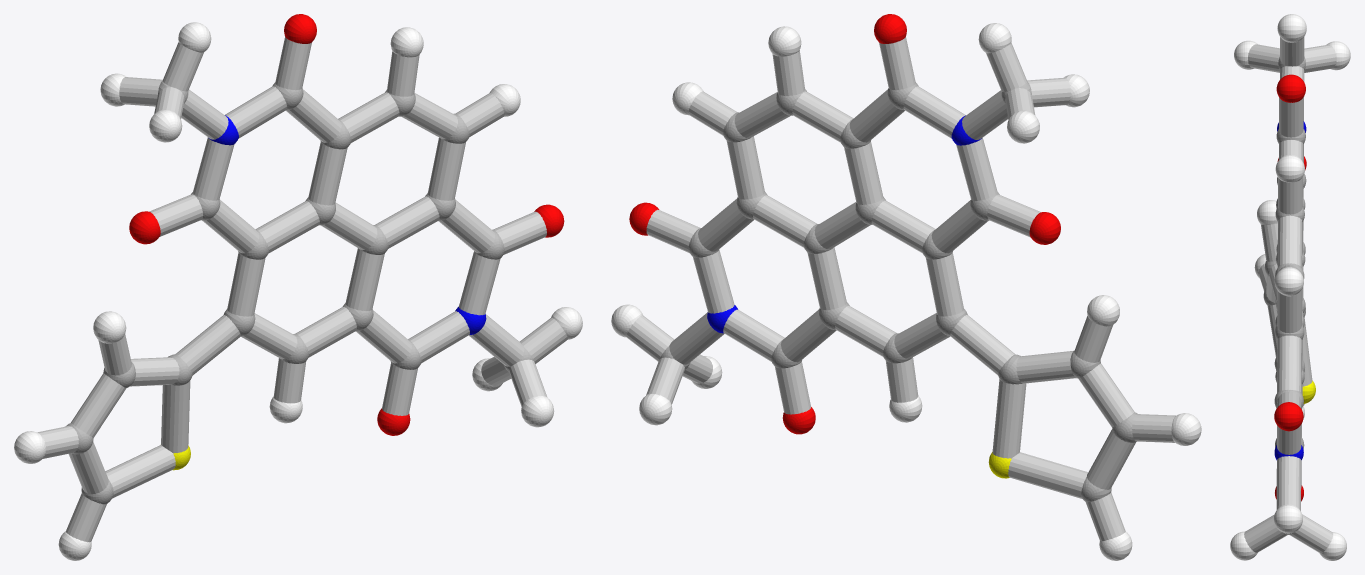
File: Dimethyl_Naphthalene_Dicarboximide_Phi_5_Theta_350_Thiophene.glb
3 views of the same model, side by side, from view 1: azimuth 30°, elevation 25°; view 2: azimuth 150°, elevation 25°; view 3: azimuth 270°, elevation 25° (orthographic). The views are drawn at different scales.
Visible parts, largest first — view 1: grp14119, grp7241, grp1, grp12309, grp11585; view 2: grp14119, grp7241, grp1, grp12309, grp11585; view 3: grp14119, grp7241, grp1, grp12309, grp11585, grp13757.
Boxes of the visible parts, <box> form: grp14119: <box>37,36,567,542</box>; grp7241: <box>14,22,582,560</box>; grp1: <box>65,81,533,504</box>; grp12309: <box>129,14,564,435</box>; grp11585: <box>209,115,486,334</box>; grp14119: <box>626,37,1175,541</box>; grp7241: <box>611,23,1201,560</box>; grp1: <box>660,82,1137,502</box>; grp12309: <box>629,14,1060,434</box>; grp11585: <box>707,115,981,333</box>; grp14119: <box>1244,37,1336,552</box>; grp7241: <box>1230,14,1350,560</box>; grp1: <box>1263,56,1306,534</box>; grp12309: <box>1274,74,1306,501</box>; grp11585: <box>1274,121,1306,460</box>; grp13757: <box>1302,380,1315,403</box>.
Bounding box in the file's own units: 12.03 × 10.11 × 2.46.
